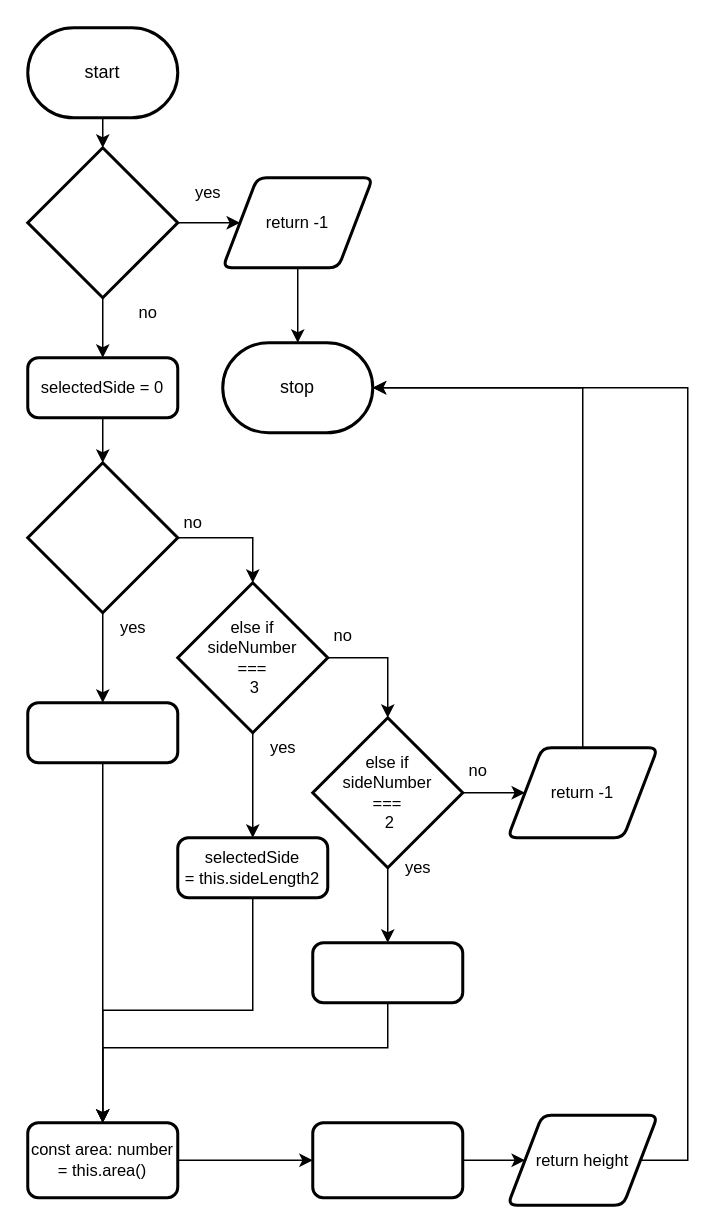
Image size: 726x1232. Some labels were removed from this diagram. The box of each missing label's shape, as (x1, y1, x2, y2) in pixels:
const height: number = 2 * area / selectedSide: (310, 1120, 464, 1198)
if !this.isValid(): (26, 146, 178, 298)
if sideNumber === 1: (26, 460, 178, 614)
selectedSide = this.sideLength1: (26, 700, 178, 764)
selectedSide = this.sideLength3: (310, 940, 464, 1004)
